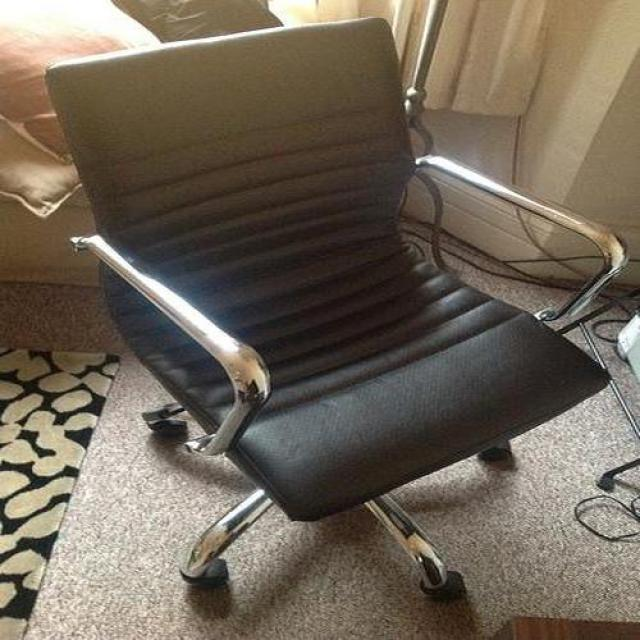swivelchair: (45, 17, 618, 604)
